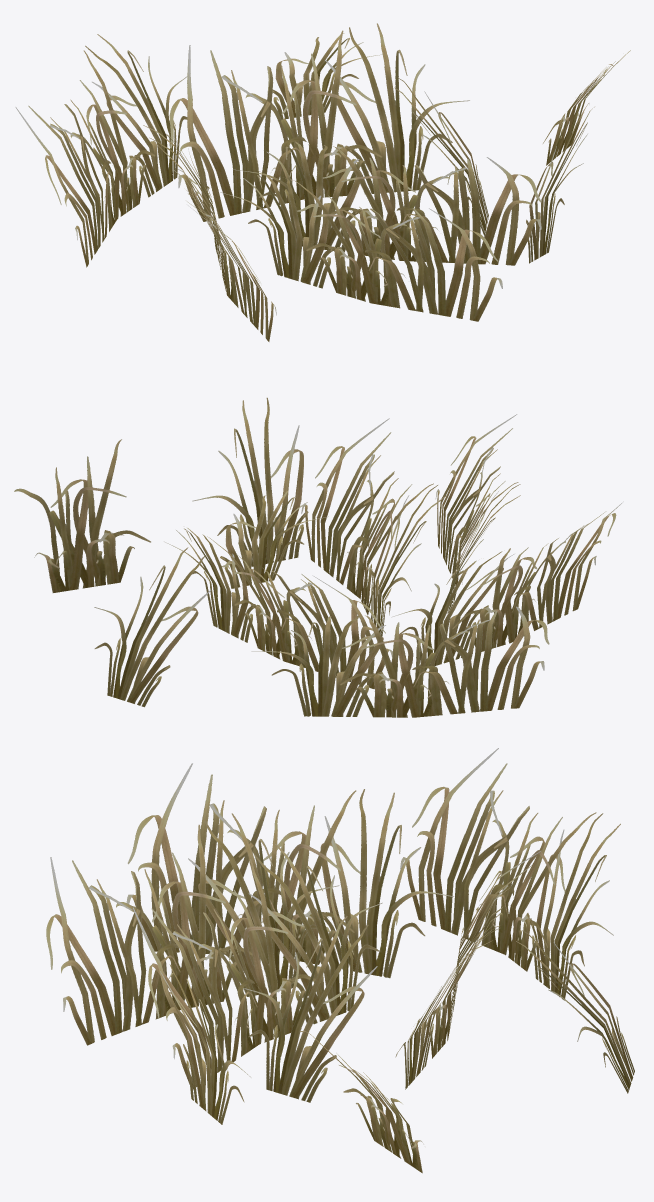
The model's file is grass_patch_L_04.fbx.
3 views of the same model, one above another, from view 1: azimuth 30°, elevation 25°; view 2: azimuth 150°, elevation 25°; view 3: azimuth 270°, elevation 25° (orthographic). The views are drawn at different scales.
Parts seen in each view (by area): view 1: Grass_Plane_A0023; view 2: Grass_Plane_A0023; view 3: Grass_Plane_A0023.
Part boxes in pixels (x1,y1,x2,y2): Grass_Plane_A0023: (15, 23, 630, 341); Grass_Plane_A0023: (14, 397, 623, 717); Grass_Plane_A0023: (46, 748, 634, 1173).
Size of the model in its own units: 195 by 51.23 by 163.
